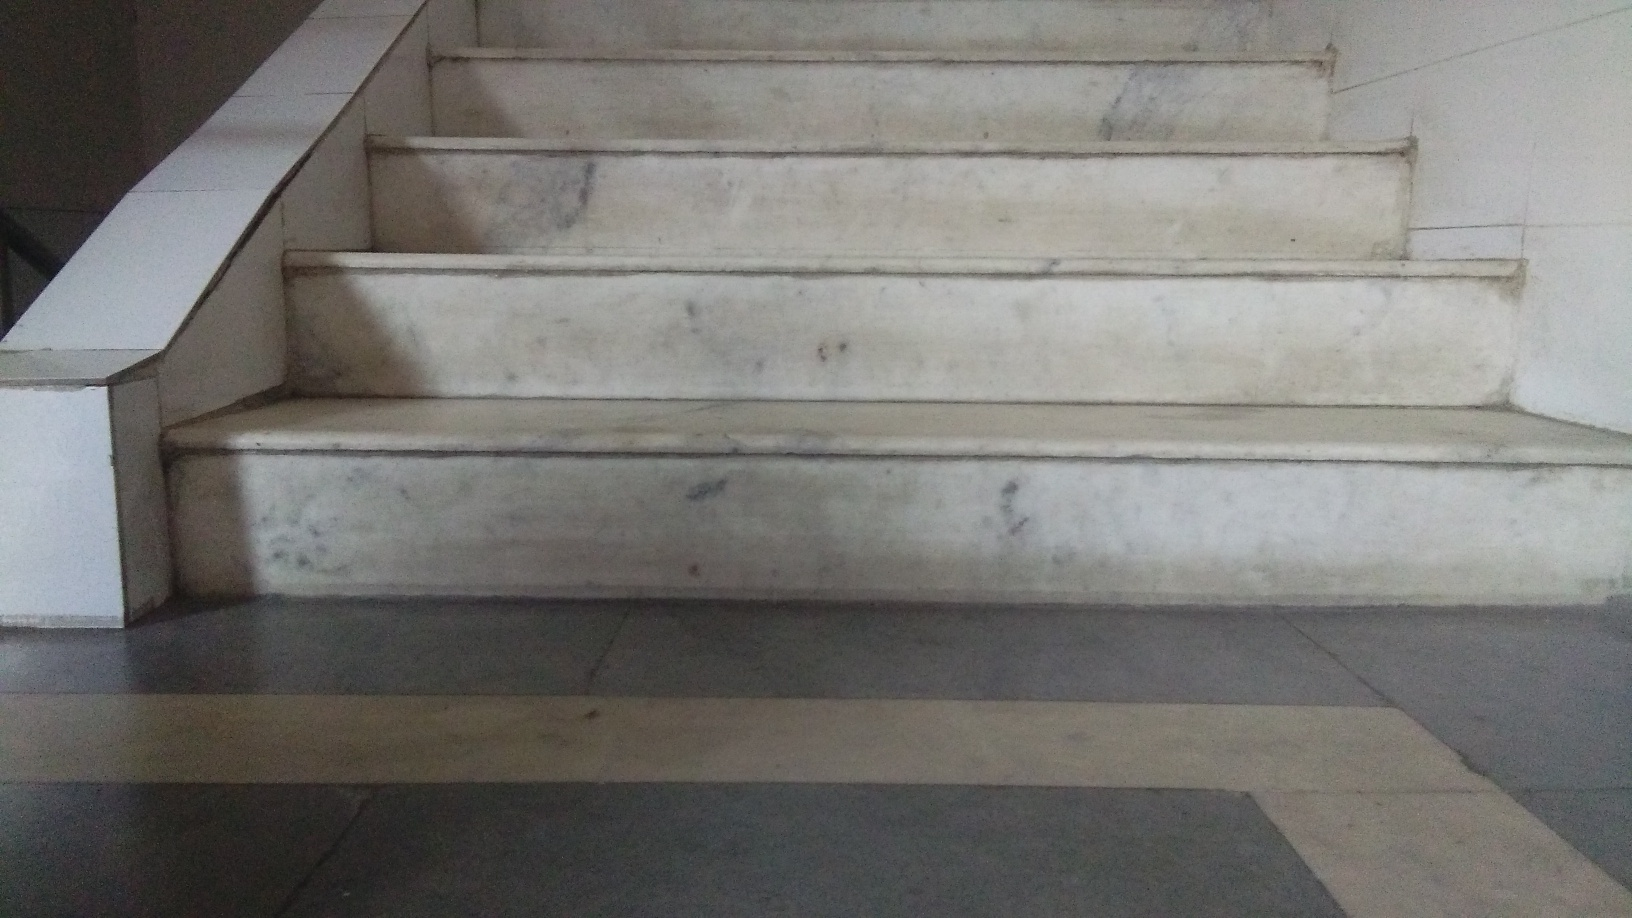stairs_up: (148, 36, 1619, 631)
